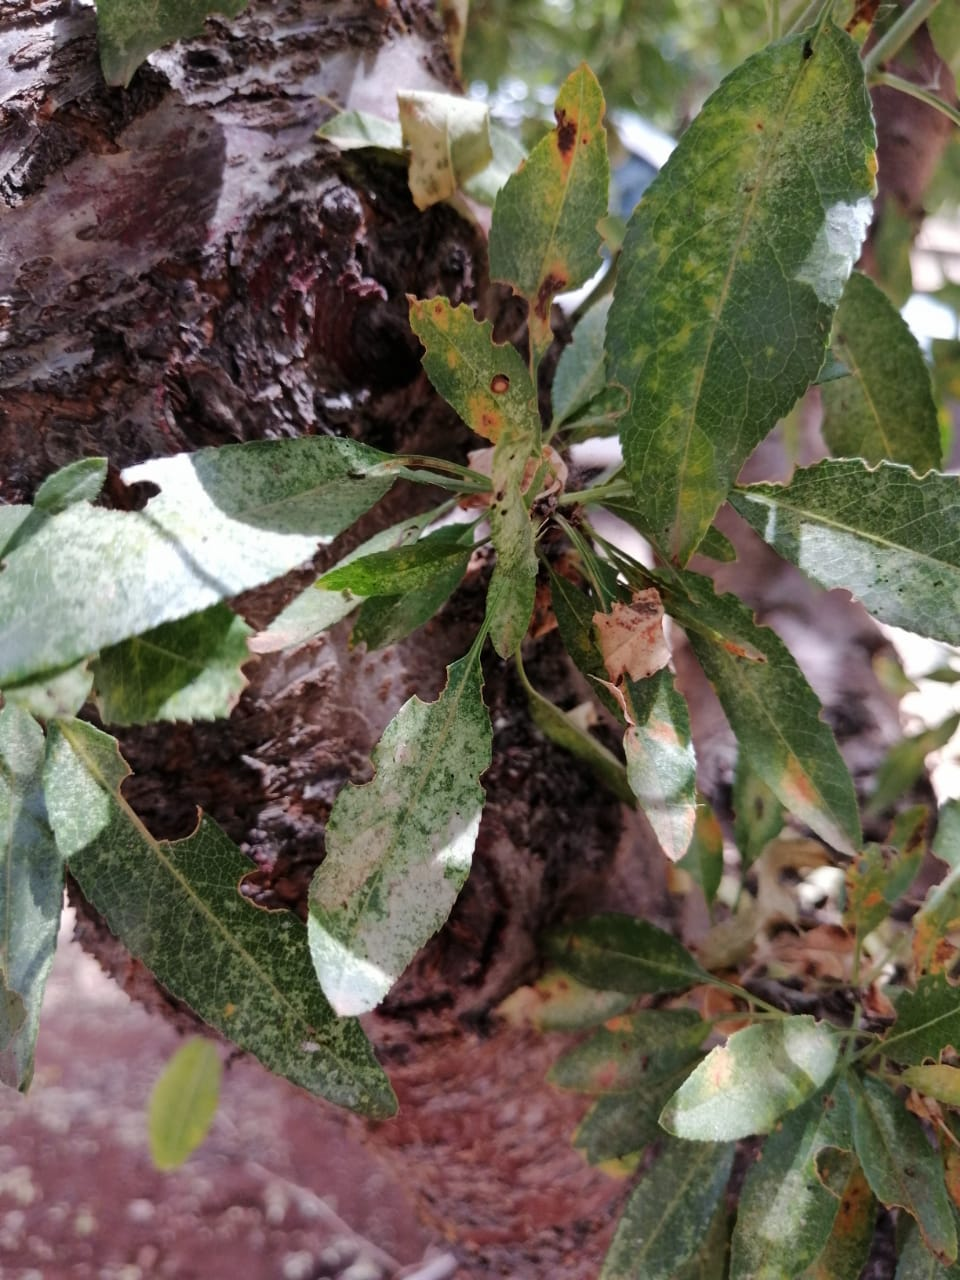faux tigre: (601, 14, 883, 565), (1, 435, 418, 692), (306, 653, 495, 1015)
